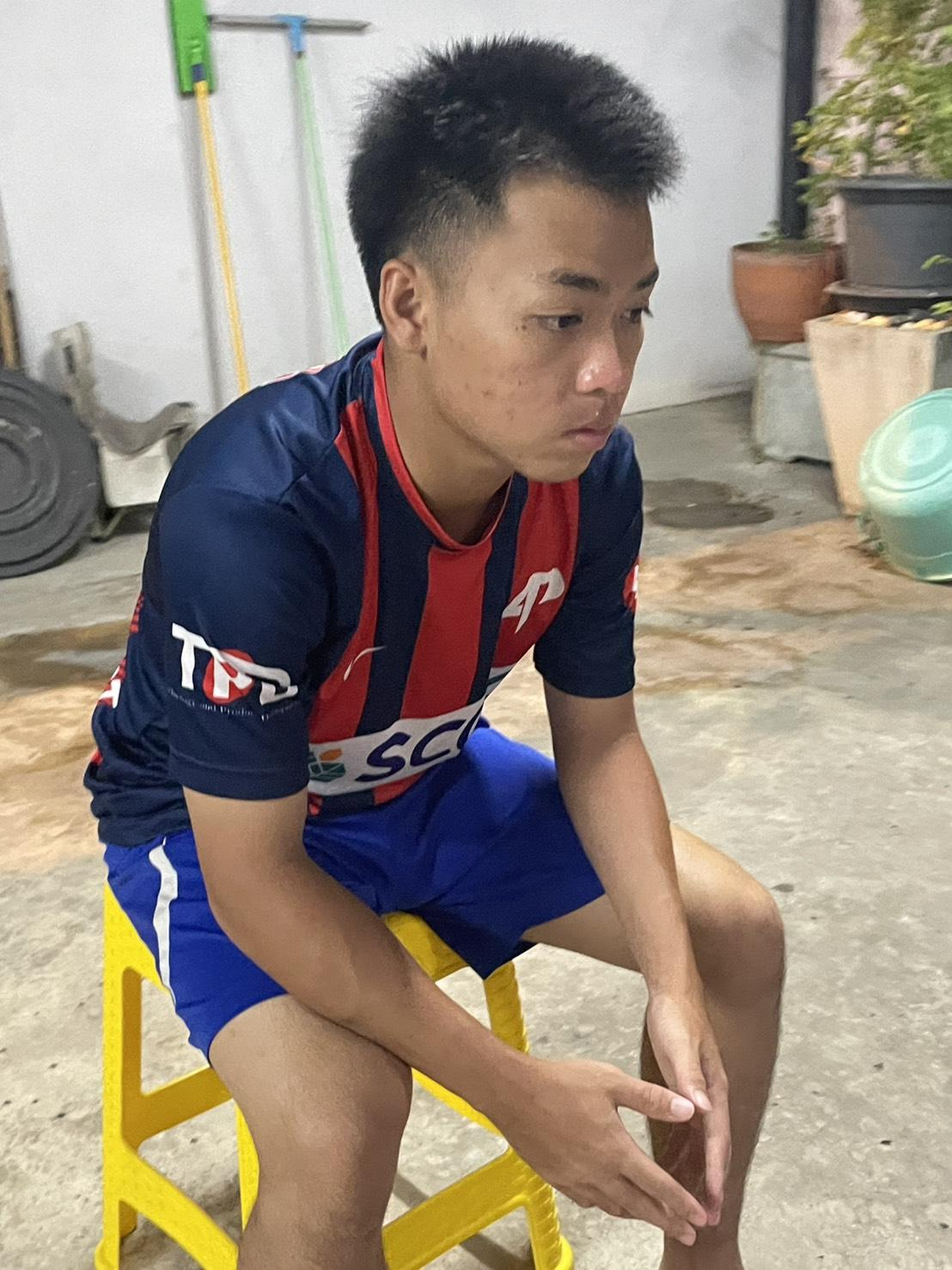BadPosture: (84, 39, 678, 853)
